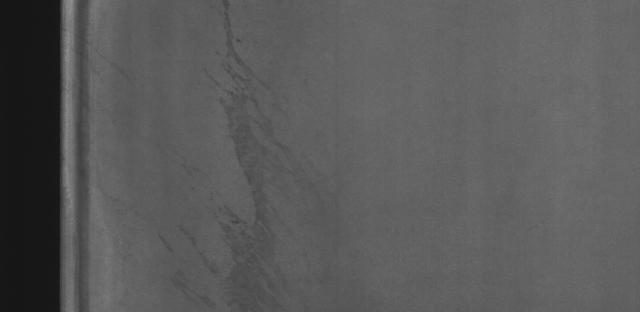water_spot: (180, 0, 302, 306)
